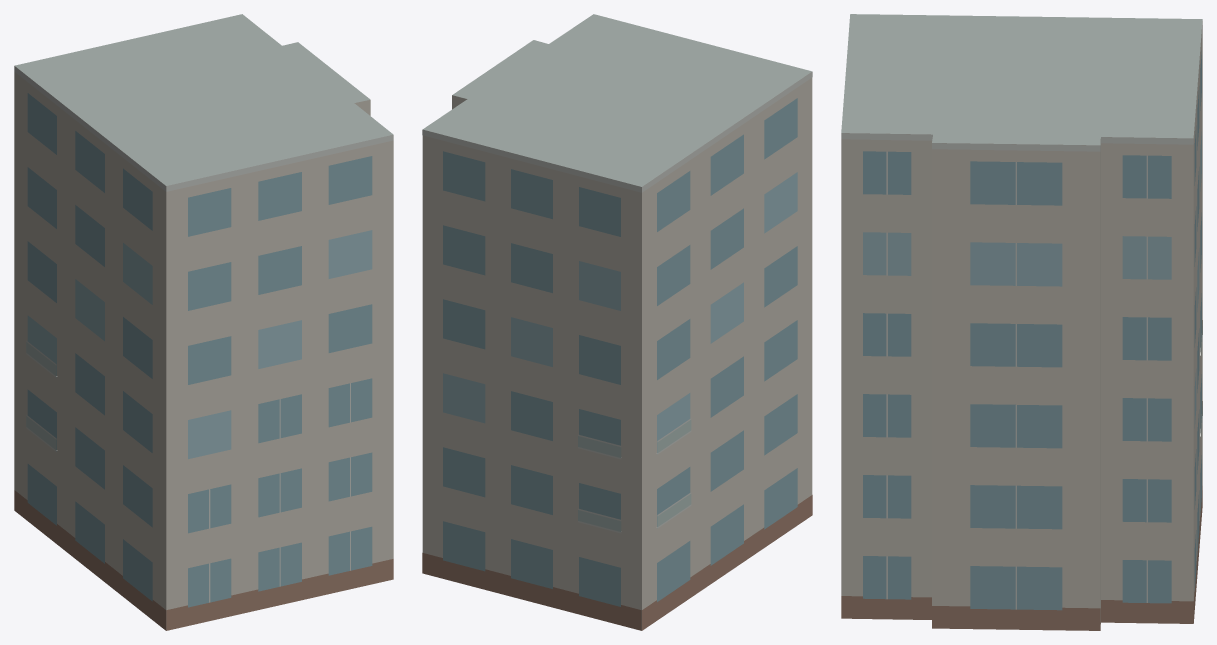
Rendered from survey-upis-32879019.glb.
3 views of the same model, side by side, from view 1: azimuth 30°, elevation 25°; view 2: azimuth 150°, elevation 25°; view 3: azimuth 270°, elevation 25° (orthographic). The views are drawn at different scales.
Parts seen in each view (by area): view 1: survey-upis-32879019.tmp; view 2: survey-upis-32879019.tmp; view 3: survey-upis-32879019.tmp.
Part boxes in pixels (x1=…): survey-upis-32879019.tmp: x1=14, y1=14, x2=393, y2=630; survey-upis-32879019.tmp: x1=422, y1=14, x2=812, y2=630; survey-upis-32879019.tmp: x1=841, y1=14, x2=1202, y2=630.
Bounding box in the file's own units: 10.83 × 18.65 × 12.6.
